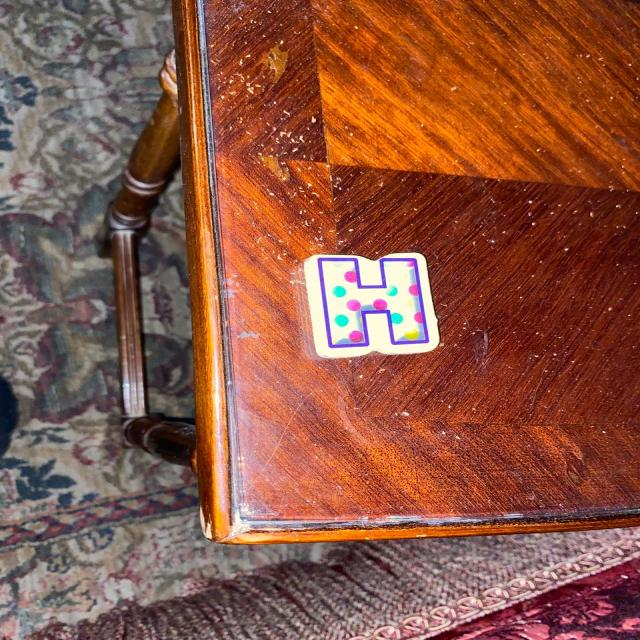H: (305, 253, 439, 358)
